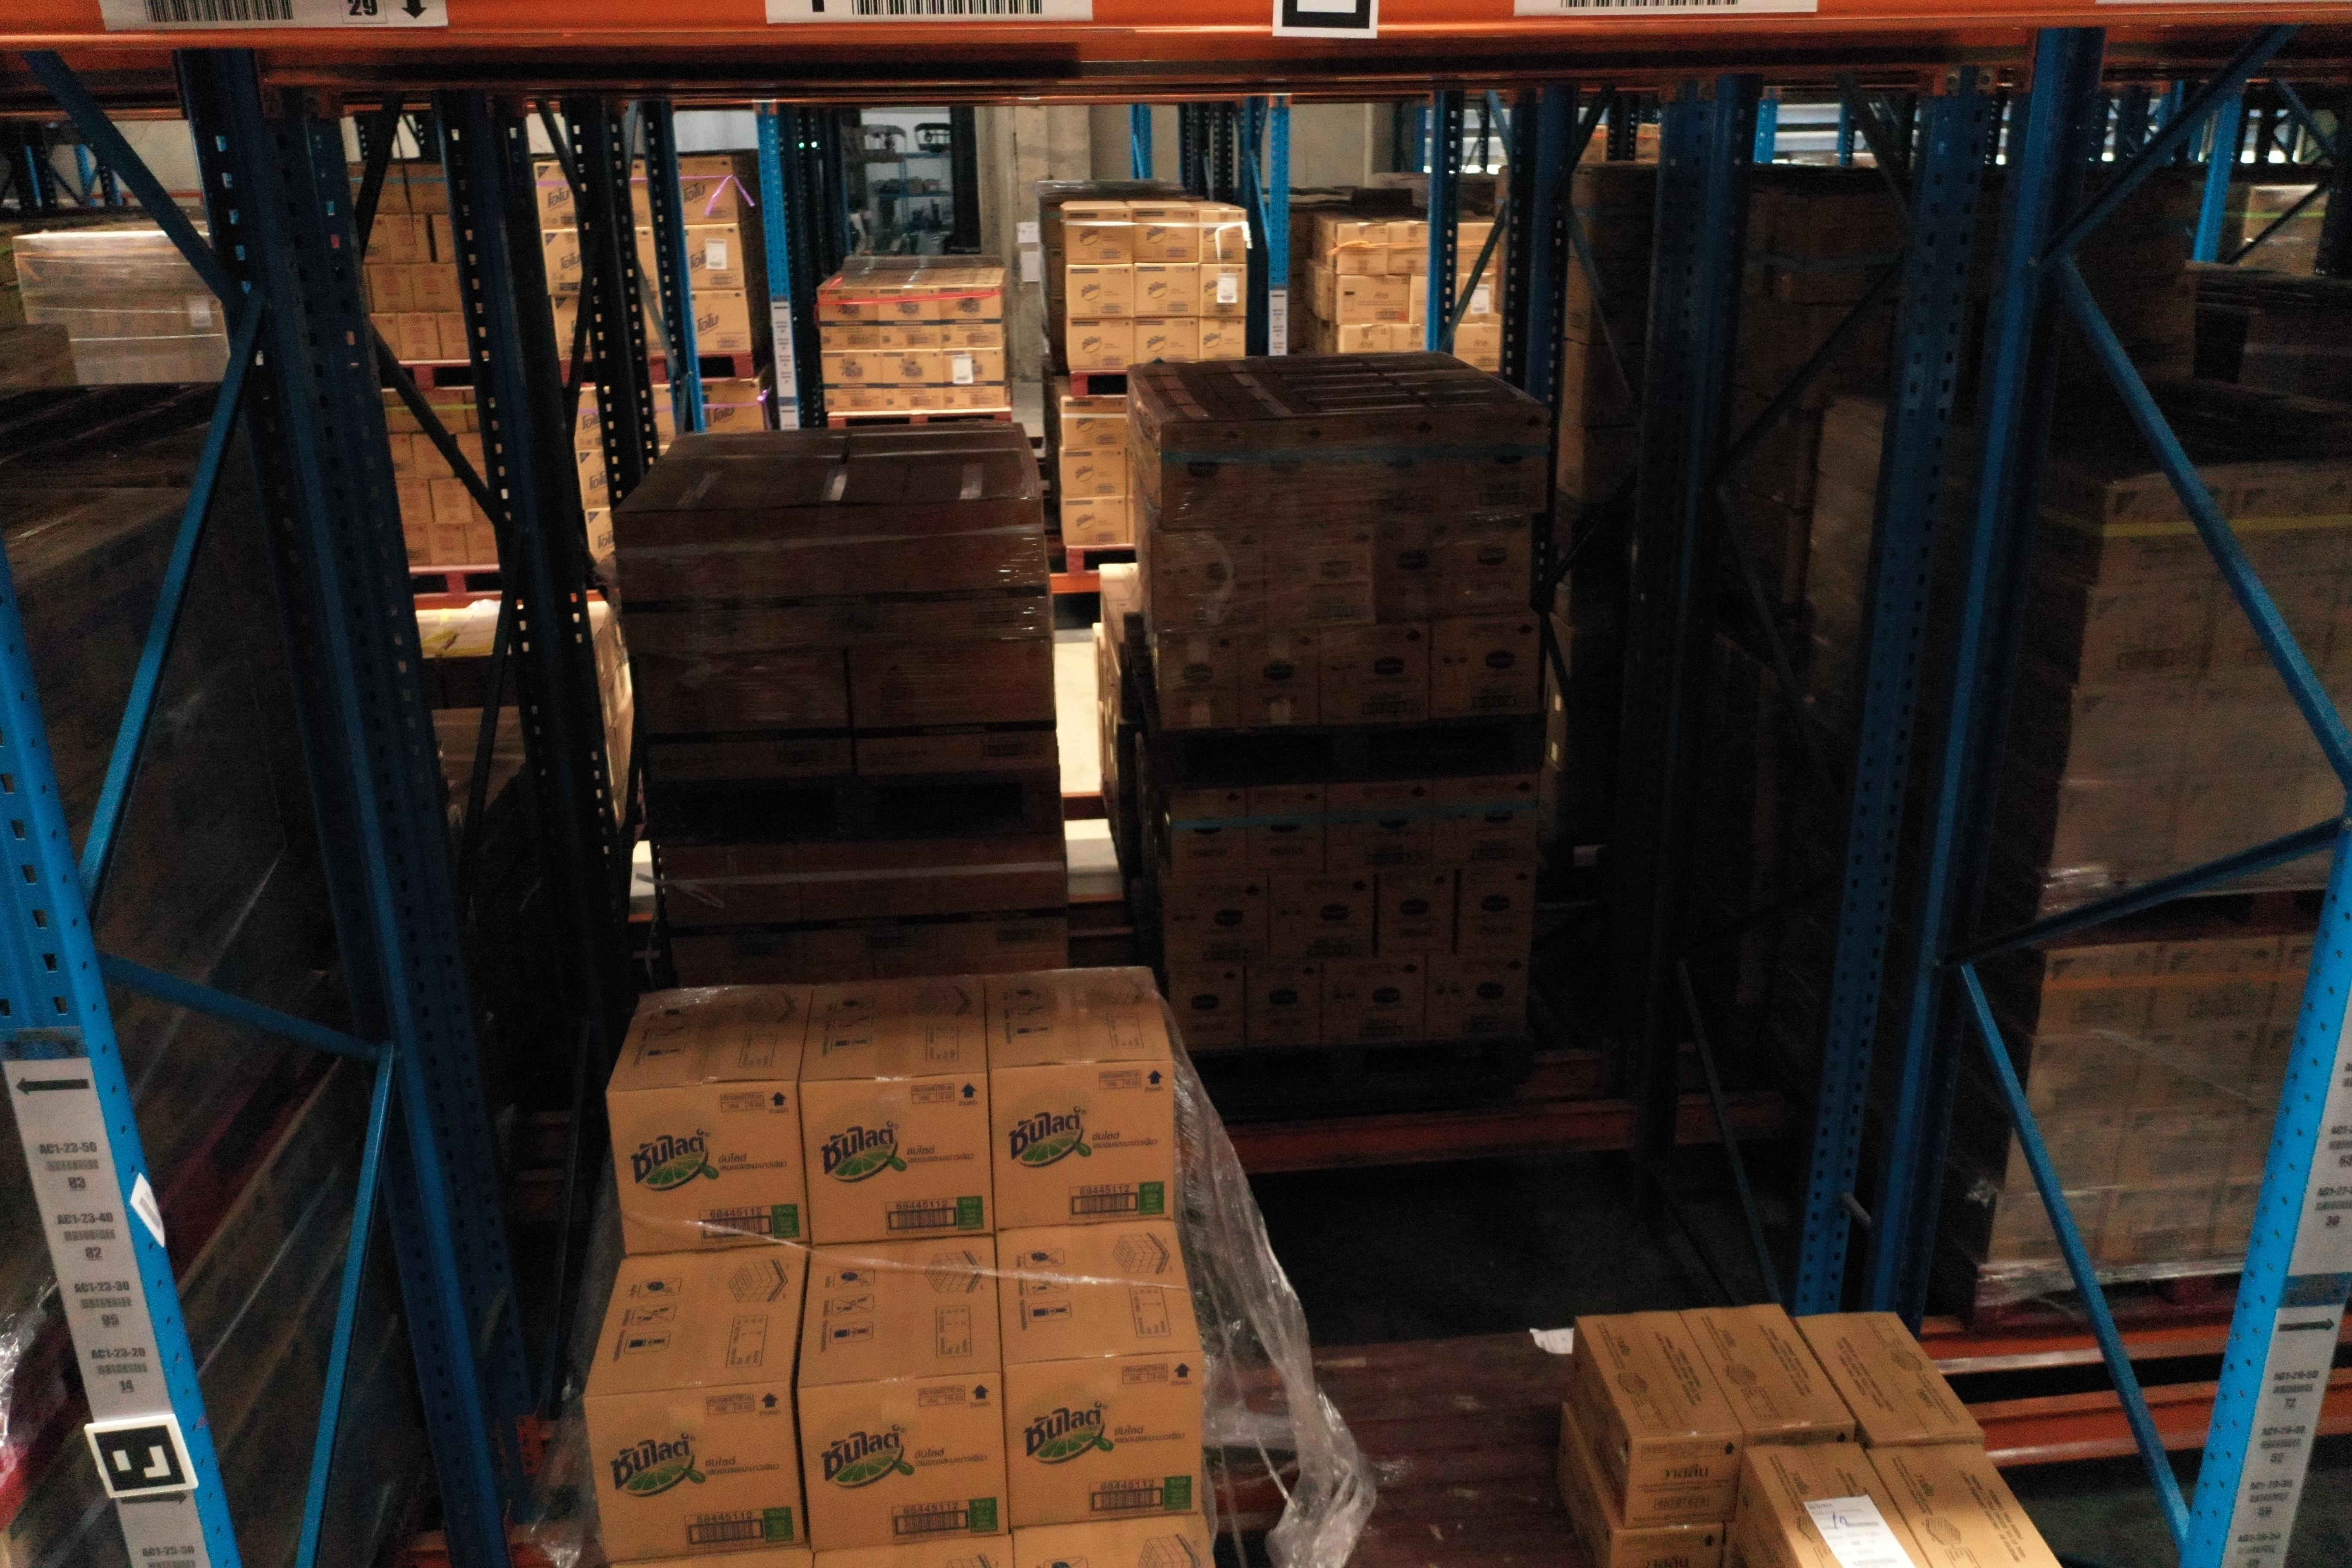-: (794, 1367, 1010, 1554), (584, 1379, 808, 1557), (604, 1078, 812, 1256), (1004, 1349, 1206, 1529), (794, 1073, 996, 1244), (987, 1057, 1174, 1234), (1624, 1431, 1743, 1533), (1612, 1524, 1724, 1568)
2: (630, 651, 854, 789), (845, 640, 1057, 775), (754, 502, 906, 656), (614, 507, 766, 658), (903, 499, 1052, 644), (658, 838, 808, 941), (1328, 416, 1451, 527), (803, 838, 936, 934), (934, 833, 1064, 929), (1319, 623, 1433, 724), (1151, 535, 1269, 633), (1263, 528, 1375, 630), (1430, 619, 1542, 717), (1449, 408, 1549, 516), (1433, 775, 1538, 873), (1244, 418, 1335, 530), (1326, 784, 1438, 875), (1319, 961, 1430, 1046), (1158, 425, 1244, 534), (1165, 877, 1274, 962), (1424, 959, 1528, 1048), (1272, 877, 1379, 961), (667, 931, 812, 989), (1158, 637, 1242, 735), (1241, 630, 1321, 731), (1452, 518, 1533, 616), (1452, 870, 1535, 964), (940, 917, 1066, 978), (1377, 525, 1454, 623), (808, 929, 941, 983), (1244, 789, 1326, 877), (1171, 962, 1246, 1053), (1379, 875, 1458, 961), (1174, 791, 1251, 878), (1244, 961, 1321, 1048)
box: (2201, 581, 2340, 698), (2081, 583, 2215, 700), (2100, 471, 2235, 586), (2149, 936, 2287, 1045), (2051, 782, 2186, 889), (2170, 780, 2306, 884), (2229, 472, 2352, 584), (2128, 1034, 2263, 1130), (2035, 941, 2161, 1043), (2067, 696, 2196, 786), (2187, 696, 2319, 782), (2023, 1039, 2145, 1129), (2093, 1186, 2221, 1269), (1990, 1195, 2109, 1276), (1998, 1127, 2131, 1199), (2110, 1122, 2236, 1197)
